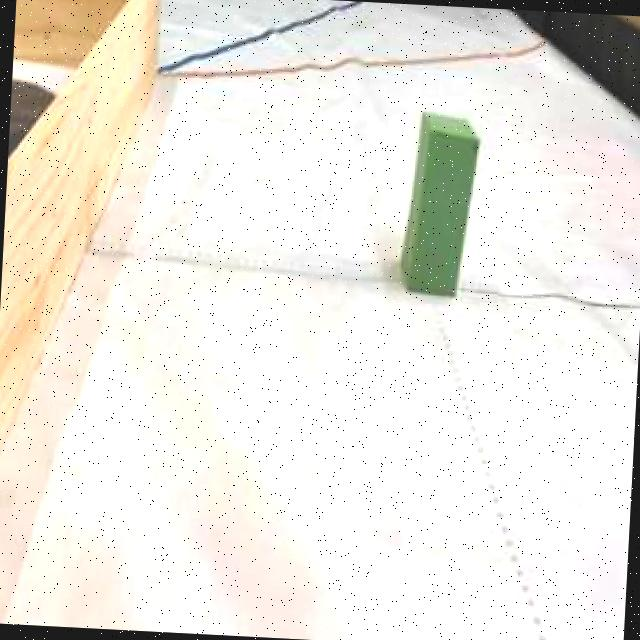greenbox: (402, 120, 476, 297)
